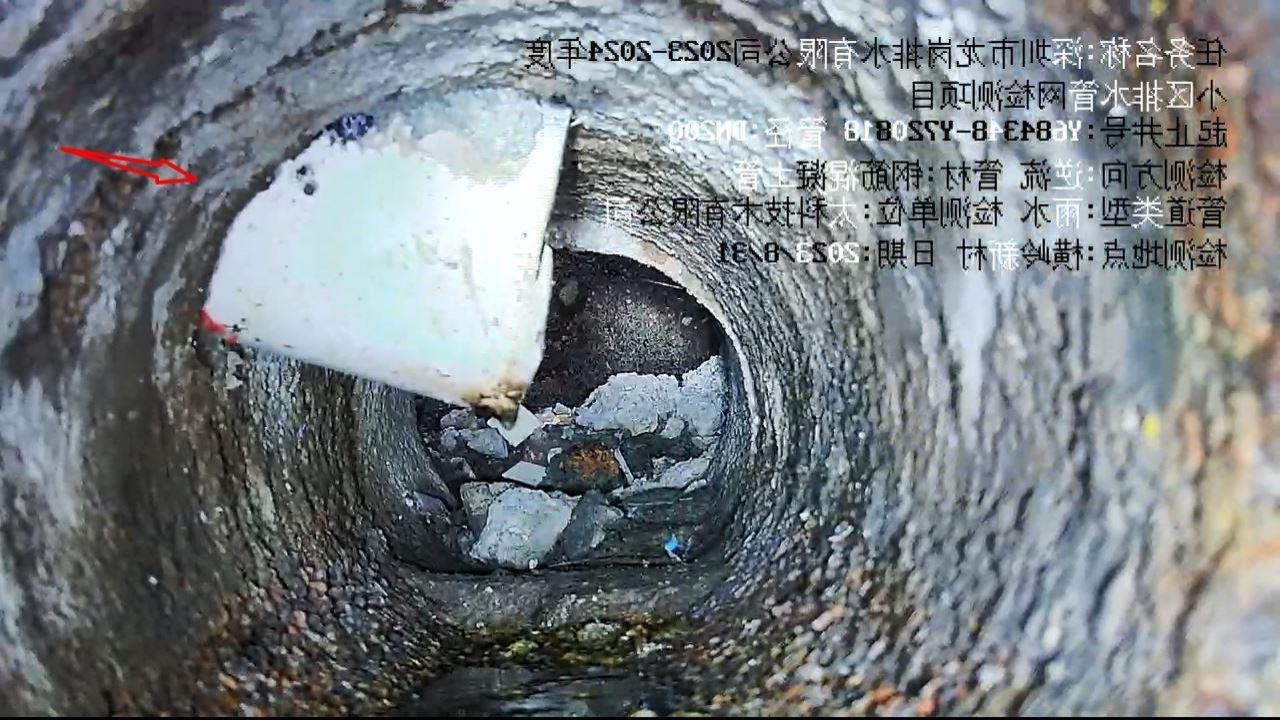ZGAJ: (205, 89, 572, 414)
